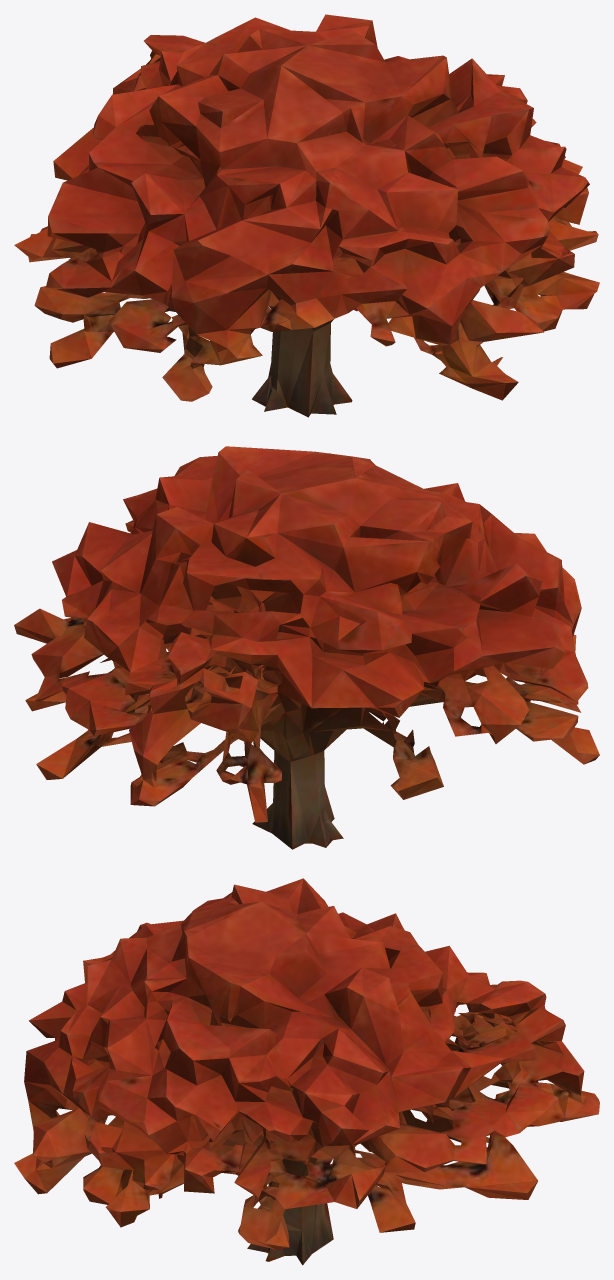
Rendered from arbre2.glb.
3 renders of one model, top to bottom at view 1: azimuth 30°, elevation 25°; view 2: azimuth 150°, elevation 25°; view 3: azimuth 270°, elevation 25°, orthographic. The views are drawn at different scales.
Visible parts, largest first — view 1: world; view 2: world; view 3: world.
Boxes of the visible parts, box(x1,y1,x2,y2) form: world: box(14, 14, 599, 417); world: box(14, 446, 599, 849); world: box(14, 878, 599, 1265).
Bounding box in the file's own units: 0.9596 × 0.6109 × 0.9913.
1 material, 1 textured.
